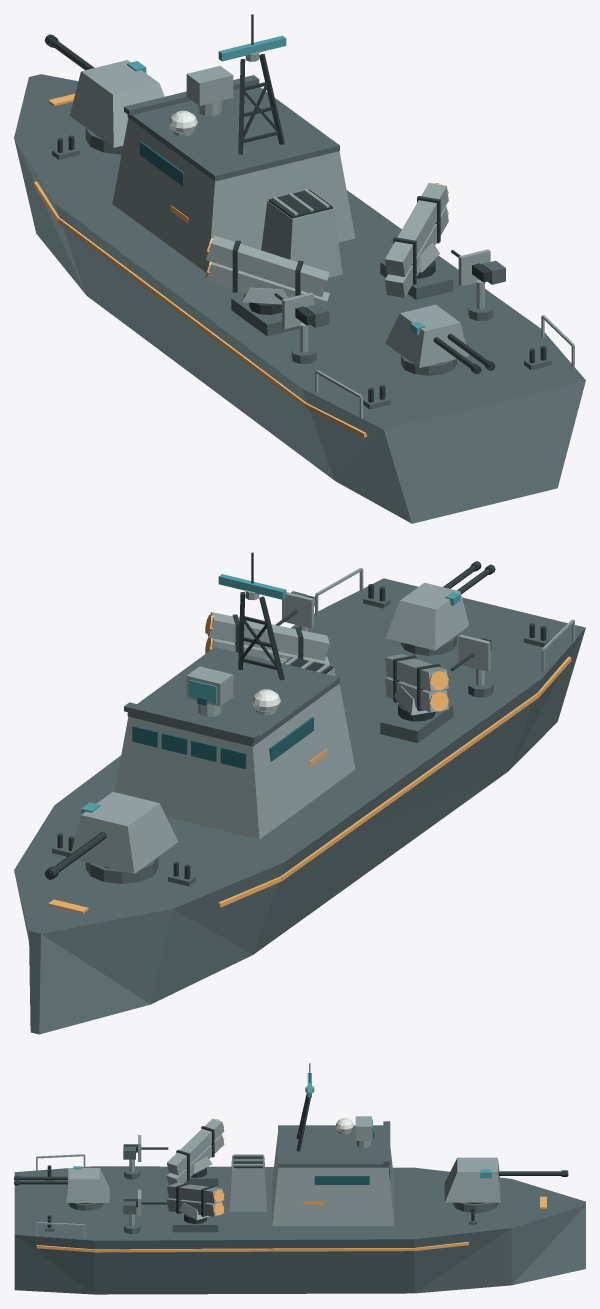
File: ESC_STK_T2.fbx
3 views of the same model, one above another, from view 1: azimuth 30°, elevation 25°; view 2: azimuth 150°, elevation 25°; view 3: azimuth 270°, elevation 25° (orthographic). The views are drawn at different scales.
Parts seen in each view (by area): view 1: ContinuousHull.002, Deckhouse.002, Roof.002, PrimaryGunCupola.002, FunnelEnclosure.002, AftGunCupola.002, MissileBankPortTube2, MissileBankStarboardTube2, RoleHullStripe-1_1.002, FireControlHousing.001, MissileBankPortTube1.001, MissileBankPortFoundation.001 (+8 smaller); view 2: ContinuousHull.002, Deckhouse.002, Roof.002, PrimaryGunCupola.002, AftGunCupola.002, MissileBankStarboardTube2, RoleHullStripe-1_1.002, BridgeBrow.002, MissileBankPortFoundation.001, MissileBankPortTube2, FireControlHousing.001, PrimaryGunFoundation.002 (+6 smaller); view 3: ContinuousHull.002, Deckhouse.002, Roof.002, PrimaryGunCupola.002, FunnelEnclosure.002, AftGunCupola.002, RoleHullStripe1_1.002, MissileBankPortTube2, MissileBankStarboardTube2, MissileBankStarboardFoundation.001, MissileBankPortTube1.001, BridgeSideGlass1.002 (+7 smaller).
Boxes of the visible parts, <box> form: ContinuousHull.002: <box>14,74,585,523</box>; Deckhouse.002: <box>112,118,355,272</box>; Roof.002: <box>127,87,339,181</box>; PrimaryGunCupola.002: <box>70,60,164,147</box>; FunnelEnclosure.002: <box>261,200,342,277</box>; AftGunCupola.002: <box>385,304,468,367</box>; MissileBankPortTube2: <box>206,235,329,297</box>; MissileBankStarboardTube2: <box>385,183,448,276</box>; RoleHullStripe-1_1.002: <box>57,217,306,407</box>; FireControlHousing.001: <box>186,66,233,105</box>; MissileBankPortTube1.001: <box>206,262,329,307</box>; MissileBankPortFoundation.001: <box>231,295,299,336</box>; ContinuousHull.002: <box>14,578,585,1034</box>; Deckhouse.002: <box>114,683,355,839</box>; Roof.002: <box>127,647,339,746</box>; PrimaryGunCupola.002: <box>71,792,178,873</box>; AftGunCupola.002: <box>385,582,468,650</box>; MissileBankStarboardTube2: <box>207,612,329,660</box>; RoleHullStripe-1_1.002: <box>280,693,538,880</box>; BridgeBrow.002: <box>124,702,259,742</box>; MissileBankPortFoundation.001: <box>380,704,453,742</box>; MissileBankPortTube2: <box>385,654,448,691</box>; FireControlHousing.001: <box>186,666,233,706</box>; PrimaryGunFoundation.002: <box>85,857,158,883</box>; ContinuousHull.002: <box>14,1166,585,1294</box>; Deckhouse.002: <box>272,1133,394,1226</box>; Roof.002: <box>278,1125,388,1167</box>; PrimaryGunCupola.002: <box>444,1157,500,1202</box>; FunnelEnclosure.002: <box>229,1155,266,1211</box>; AftGunCupola.002: <box>66,1168,109,1202</box>; RoleHullStripe1_1.002: <box>94,1248,414,1252</box>; MissileBankPortTube2: <box>167,1118,224,1175</box>; MissileBankStarboardTube2: <box>166,1183,224,1203</box>; MissileBankStarboardFoundation.001: <box>172,1213,218,1232</box>; MissileBankPortTube1.001: <box>167,1134,224,1185</box>; BridgeSideGlass1.002: <box>314,1176,369,1184</box>.
Size of the model in its own units: 281 by 355 by 901.
